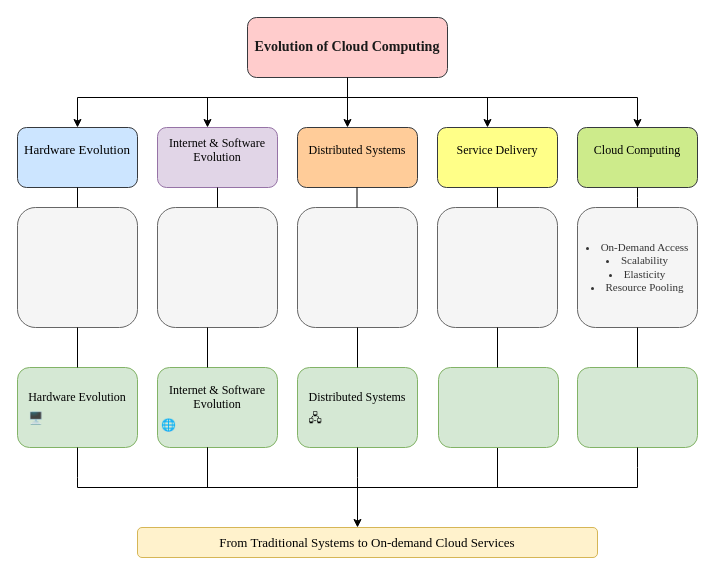
This 715x575 diagram has some shape labels left out. Here are the shapes that lost their labels. From the top down, the centre of each, then its label:
point (77, 267): Mainframes Client-Server Virtualization
point (217, 267): Internet Web Services APIs SOA
point (357, 267): Grid Computing Cluster Computing Resource Sharing
point (497, 267): IaaS PaaS SaaS XaaS
point (498, 407): Service Delivery ☁️
point (637, 407): Virtualization 💻
